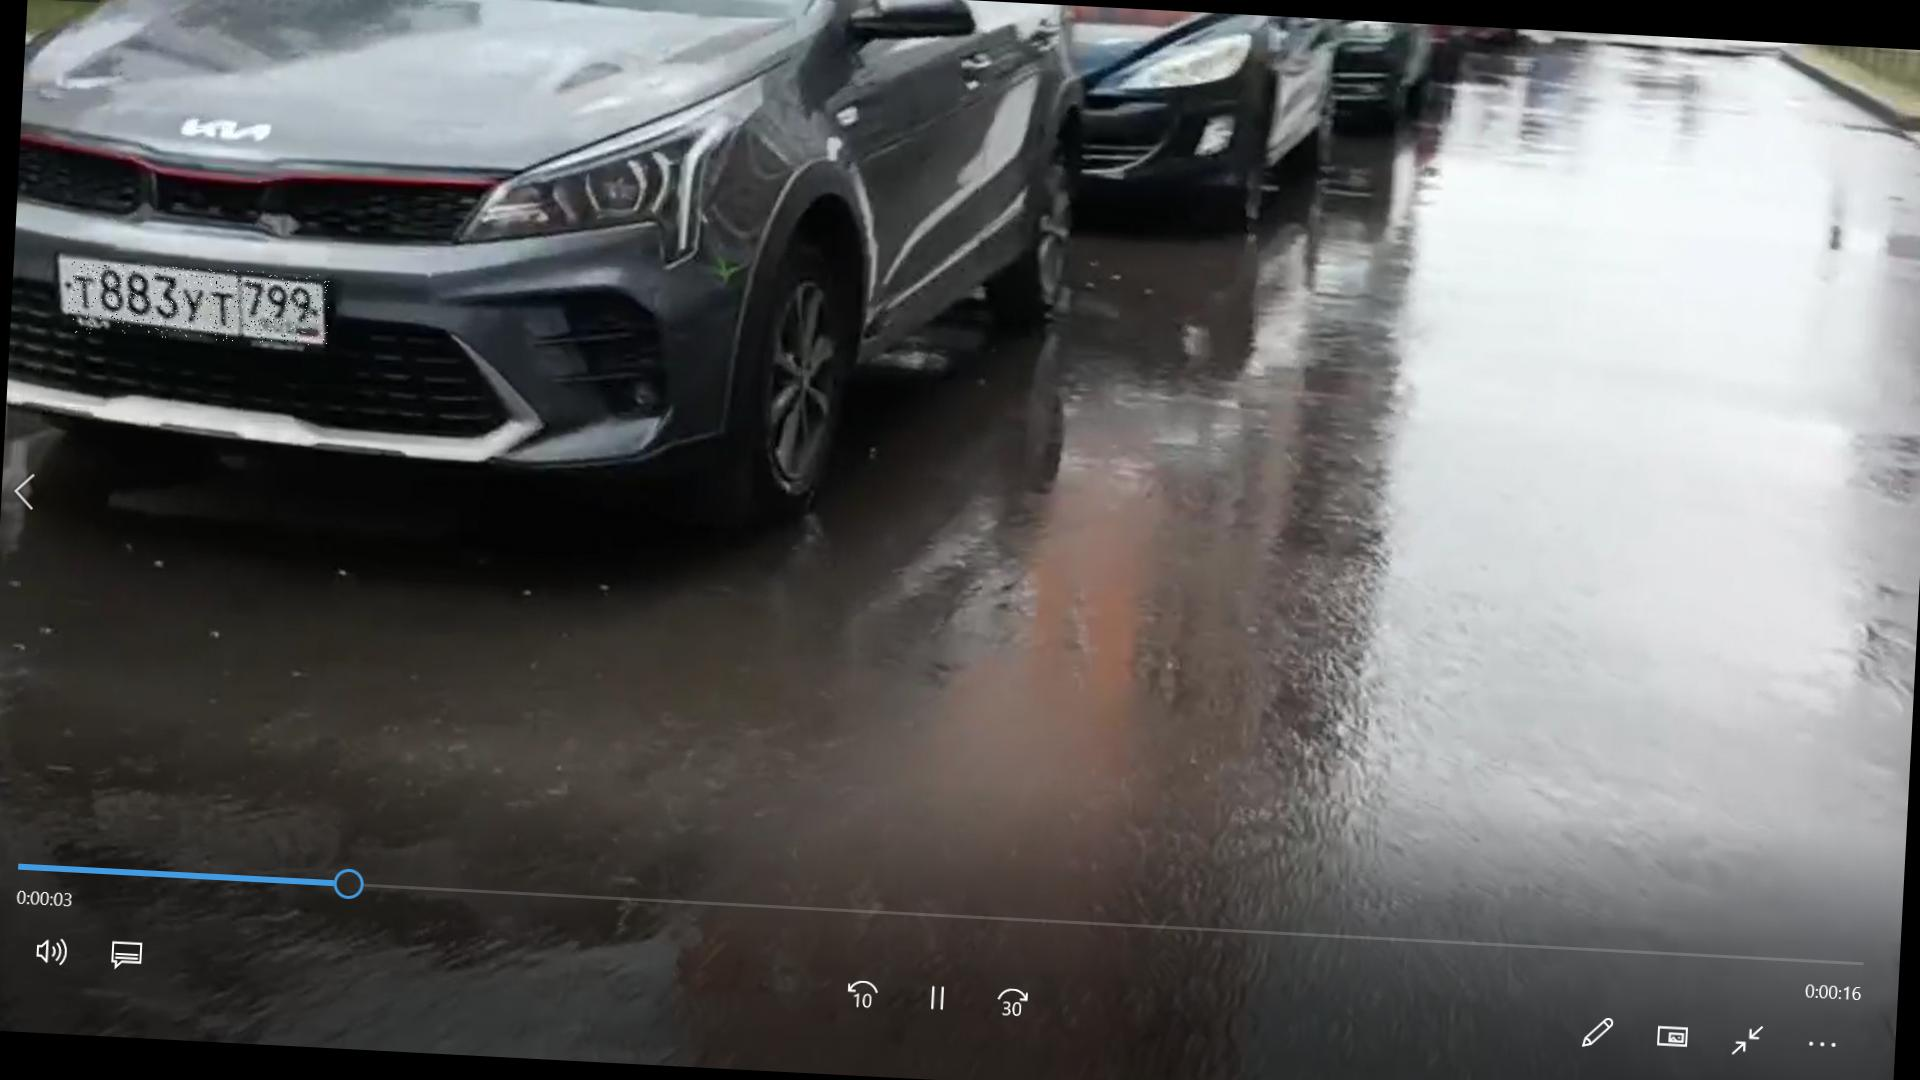plate: (69, 263, 335, 347)
